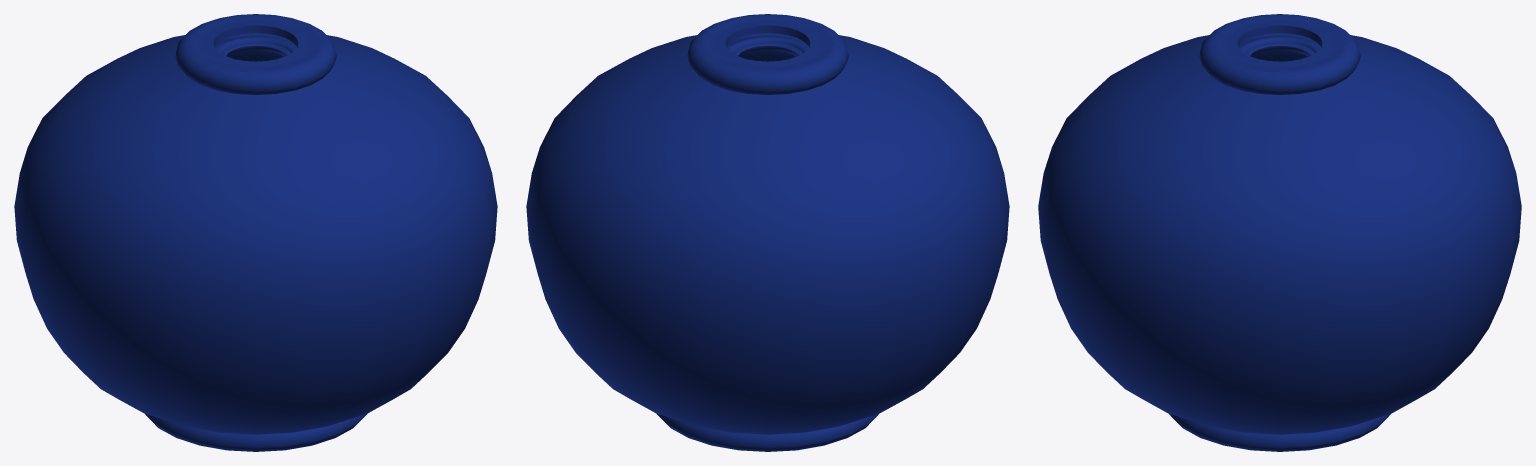
The model's file is FishCoralBowlUVMapped.obj.
3 renders of one model, left to right at view 1: azimuth 30°, elevation 25°; view 2: azimuth 150°, elevation 25°; view 3: azimuth 270°, elevation 25°, orthographic.
Visible parts, largest first — view 1: BowlMesh; view 2: BowlMesh; view 3: BowlMesh.
Part boxes in pixels (x1,y1,x2,y2): BowlMesh: [14, 14, 497, 451]; BowlMesh: [526, 14, 1009, 451]; BowlMesh: [1038, 14, 1521, 451].
Bounding box in the file's own units: 24.91 × 20.72 × 24.91.
